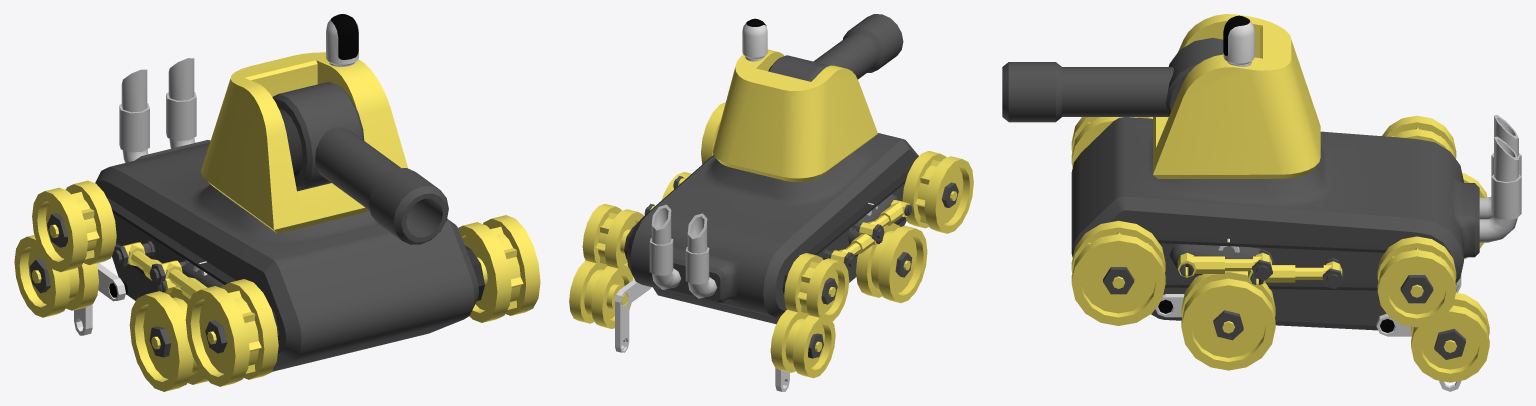
Rendered from tank.glb.
The picture shows the model from 3 angles, left to right: view 1: azimuth 30°, elevation 25°; view 2: azimuth 150°, elevation 25°; view 3: azimuth 270°, elevation 25°; orthographic projection. The views are drawn at different scales.
Parts seen in each view (by area): view 1: Chassis, Turret, Barrel, RightFrontDriver, RightRearDriver, LeftFrontDriver, RightFrontIdler, RightRearIdler, RightDriveBelt, RightRearSuspensionArm, ScannerCover, RightFrontSuspensionSpring (+3 smaller); view 2: Chassis, Turret, RightFrontDriver, RightFrontIdler, Barrel, RightRearIdler, RightRearDriver, LeftRearIdler, LeftRearDriver, RightDriveBelt, LeftRearSuspensionArm, ScannerBody (+3 smaller); view 3: Chassis, Turret, Barrel, LeftFrontDriver, LeftFrontIdler, LeftRearDriver, LeftRearIdler, LeftDriveBelt, RightRearDriver, LeftFrontSuspensionSpring, ScannerBody, LeftRearSuspensionSpring (+3 smaller).
Boxes of the visible parts, left/top/right/bottom form: Chassis: left=95, top=58, right=478, bottom=371; Turret: left=201, top=52, right=408, bottom=233; Barrel: left=272, top=81, right=448, bottom=244; RightFrontDriver: left=185, top=279, right=278, bottom=386; RightRearDriver: left=32, top=180, right=116, bottom=272; LeftFrontDriver: left=458, top=215, right=540, bottom=322; RightFrontIdler: left=129, top=286, right=207, bottom=391; RightRearIdler: left=14, top=235, right=98, bottom=317; RightDriveBelt: left=106, top=197, right=279, bottom=339; RightRearSuspensionArm: left=74, top=263, right=125, bottom=335; ScannerCover: left=331, top=14, right=358, bottom=59; RightFrontSuspensionSpring: left=160, top=260, right=207, bottom=298; Chassis: left=627, top=133, right=918, bottom=324; Turret: left=712, top=49, right=877, bottom=182; RightFrontDriver: left=902, top=151, right=973, bottom=233; RightFrontIdler: left=856, top=223, right=927, bottom=303; Barrel: left=768, top=14, right=903, bottom=81; RightRearIdler: left=770, top=310, right=835, bottom=378; RightRearDriver: left=784, top=253, right=849, bottom=321; LeftRearIdler: left=569, top=260, right=633, bottom=328; LeftRearDriver: left=582, top=204, right=643, bottom=274; RightDriveBelt: left=782, top=168, right=910, bottom=294; LeftRearSuspensionArm: left=615, top=279, right=651, bottom=352; ScannerBody: left=742, top=23, right=767, bottom=61; Chassis: left=1071, top=115, right=1521, bottom=330; Turret: left=1153, top=14, right=1320, bottom=178; Barrel: left=1002, top=37, right=1223, bottom=122; LeftFrontDriver: left=1071, top=220, right=1165, bottom=325; LeftFrontIdler: left=1181, top=271, right=1275, bottom=370; LeftRearDriver: left=1377, top=236, right=1456, bottom=327; LeftRearIdler: left=1411, top=292, right=1489, bottom=382; LeftDriveBelt: left=1154, top=235, right=1390, bottom=290; RightRearDriver: left=1382, top=115, right=1456, bottom=158; LeftFrontSuspensionSpring: left=1177, top=253, right=1271, bottom=277; ScannerBody: left=1223, top=21, right=1254, bottom=66; LeftRearSuspensionSpring: left=1248, top=261, right=1342, bottom=286.
Size of the model in its own units: 2.12 by 2.42 by 3.31.
